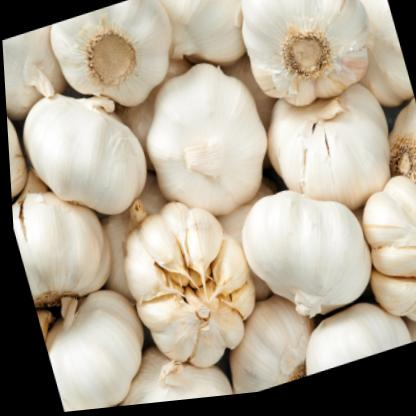--: (97, 166, 285, 409), (215, 155, 390, 364), (3, 43, 176, 253), (201, 0, 396, 159), (37, 0, 185, 123)
